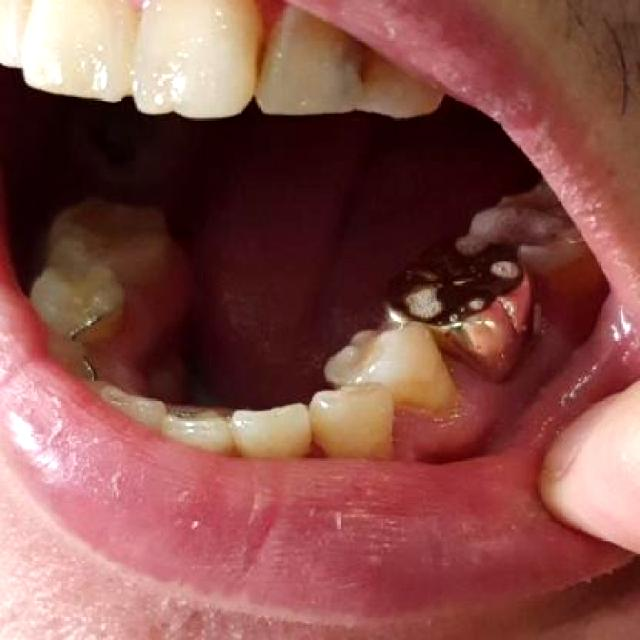Plaque: (396, 410, 450, 453), (337, 45, 367, 101), (246, 39, 272, 85), (256, 1, 287, 30)
